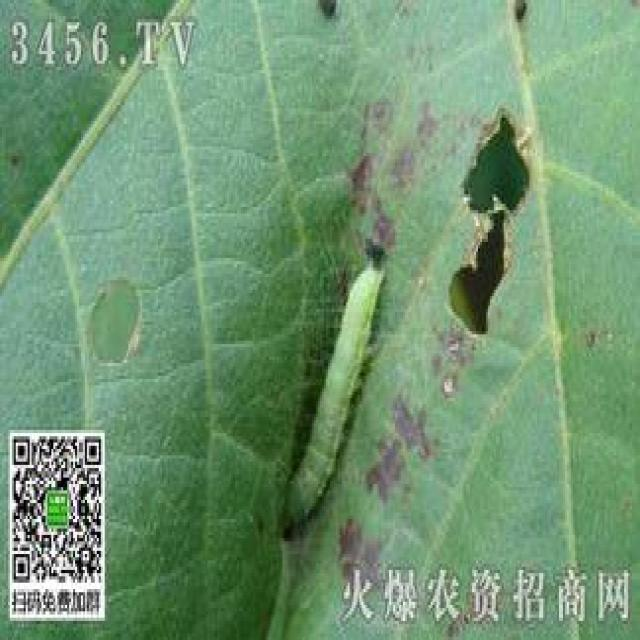BeetArmyWorm-Larva-: (273, 252, 390, 549)
